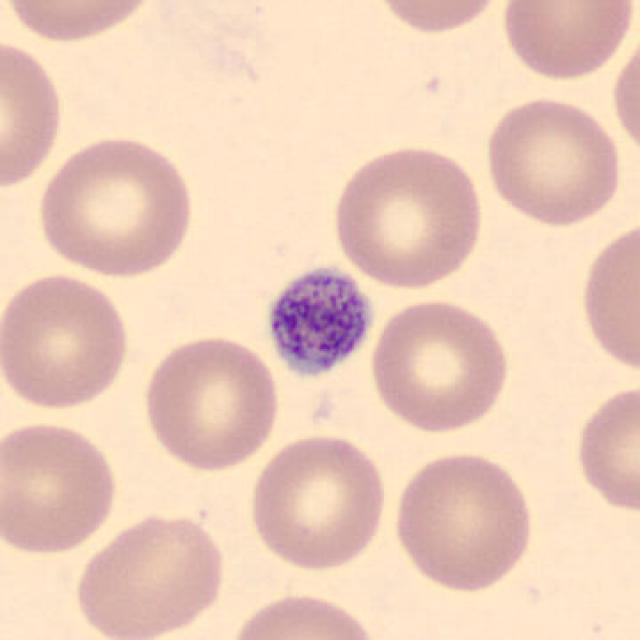Platelets: (259, 261, 377, 381)
RBC: (32, 130, 199, 280), (327, 141, 487, 291), (389, 448, 539, 594), (247, 428, 391, 575), (70, 508, 230, 640), (366, 294, 514, 436), (138, 330, 282, 474), (480, 93, 626, 230), (0, 267, 133, 414), (0, 418, 123, 559), (498, 0, 636, 83), (0, 33, 68, 194), (576, 215, 638, 379), (571, 379, 638, 517), (224, 587, 384, 640), (2, 0, 165, 46), (368, 0, 512, 37), (608, 26, 640, 160)
